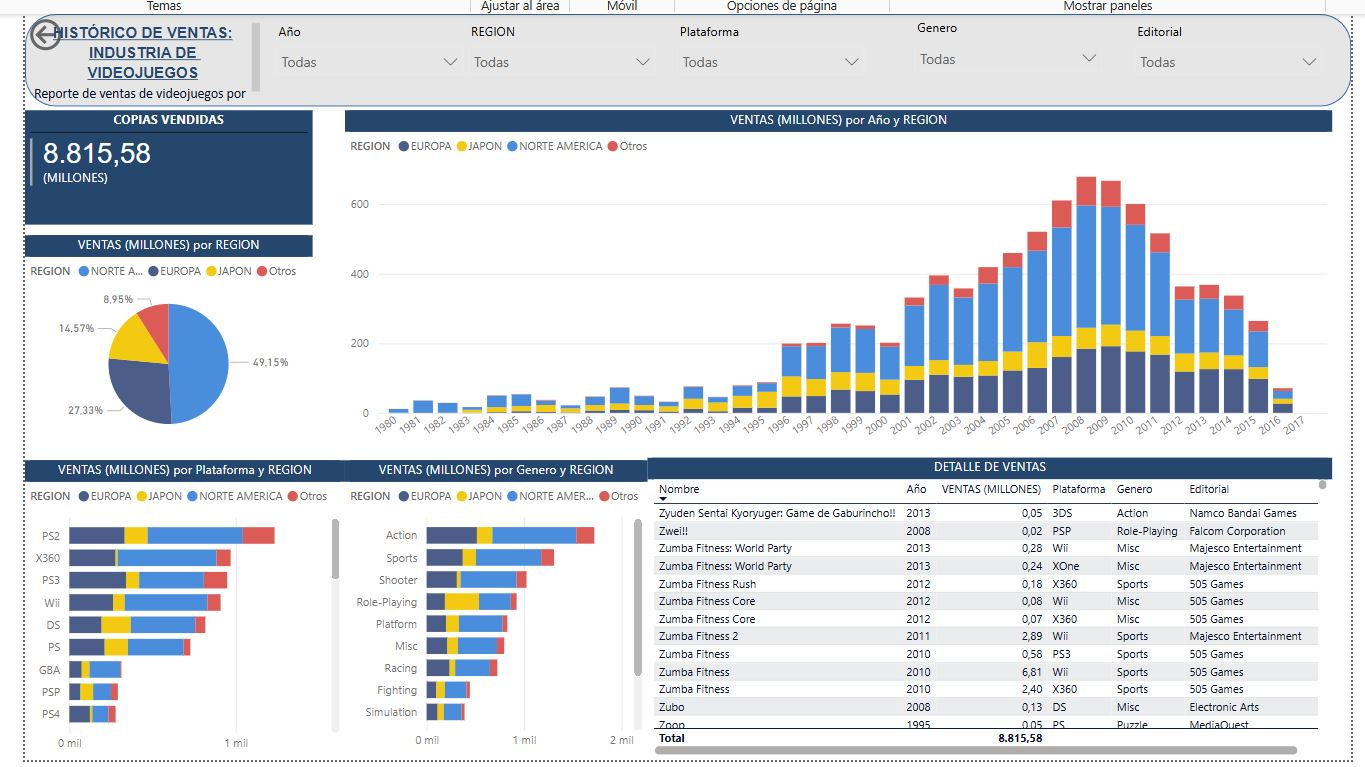

What the dashboard file says about the page in this screenshot:
{"tool":"powerbi","page":{"name":"PROYECTO 1","canvas":[1280,720],"ordinal":0},"visuals":[{"type":"shape","box":[0,0,1280,89.3],"z":0},{"type":"tableEx","title":"DETALLE DE VENTAS","fields":{"Values":["Ventas Videojuegos.Nombre","Ventas Videojuegos.Año","Sum(Ventas Videojuegos.VENTAS (MILLONES))","Ventas Videojuegos.Plataforma","Ventas Videojuegos.Genero","Ventas Videojuegos.Editorial"]},"box":[600.8,428.3,661.1,292],"z":1000},{"type":"actionButton","box":[0,0,100,40],"z":2000},{"type":"columnChart","fields":{"Category":["Ventas Videojuegos.Año"],"Y":["Sum(Ventas Videojuegos.VENTAS (MILLONES))"],"Series":["Ventas Videojuegos.REGION"]},"box":[308.8,92.9,953.1,325.7],"z":3000},{"type":"pieChart","fields":{"Category":["Ventas Videojuegos.REGION"],"Y":["Sum(Ventas Videojuegos.VENTAS (MILLONES))"]},"box":[0,213.5,277.5,205.1],"z":4000},{"type":"multiRowCard","title":"COPIAS VENDIDAS","fields":{"Values":["Sum(Ventas Videojuegos.VENTAS (MILLONES))"]},"box":[0,92.9,277.5,110],"z":5000},{"type":"slicer","fields":{"Values":["Ventas Videojuegos.Año"]},"box":[231.6,3.6,143.6,72.4],"z":6000},{"type":"slicer","fields":{"Values":["Ventas Videojuegos.REGION"]},"box":[375.2,0,201.5,72.4],"z":7000},{"type":"slicer","fields":{"Values":["Ventas Videojuegos.Plataforma"]},"box":[565.8,0,201.5,72.4],"z":8000},{"type":"slicer","fields":{"Values":["Ventas Videojuegos.Genero"]},"box":[767.3,0,201.5,72.4],"z":9000},{"type":"slicer","fields":{"Values":["Ventas Videojuegos.Editorial"]},"box":[957.9,3.6,201.5,72.4],"z":10000},{"type":"barChart","fields":{"Y":["Sum(Ventas Videojuegos.VENTAS (MILLONES))"],"Series":["Ventas Videojuegos.REGION"],"Category":["Ventas Videojuegos.Plataforma"]},"box":[0,430.7,308.8,289.5],"z":11000},{"type":"barChart","fields":{"Y":["Sum(Ventas Videojuegos.VENTAS (MILLONES))"],"Series":["Ventas Videojuegos.REGION"],"Category":["Ventas Videojuegos.Genero"]},"box":[308.8,430.7,292,287.1],"z":12000},{"type":"textbox","box":[3.6,3.6,228,89.3],"z":13000},{"type":"actionButton","box":[1179.9,4.8,100.1,39.8],"z":14000}]}

Visuals, with their boxes on the page's 1280x720 design canvas (x1, y1, x2, y2). These are canvas units, not pixel positions in the 1365x767 screenshot, which may show the page scaled, cropped or inside an application window:
shape: box=[0, 0, 1280, 89]
"DETALLE DE VENTAS" tableEx: box=[601, 428, 1262, 720]
actionButton: box=[0, 0, 100, 40]
columnChart - Ventas Videojuegos.Año x Sum(Ventas Videojuegos.VENTAS (MILLONES)): box=[309, 93, 1262, 419]
pieChart - Ventas Videojuegos.REGION x Sum(Ventas Videojuegos.VENTAS (MILLONES)): box=[0, 214, 278, 419]
"COPIAS VENDIDAS" multiRowCard: box=[0, 93, 278, 203]
slicer - Ventas Videojuegos.Año: box=[232, 4, 375, 76]
slicer - Ventas Videojuegos.REGION: box=[375, 0, 577, 72]
slicer - Ventas Videojuegos.Plataforma: box=[566, 0, 767, 72]
slicer - Ventas Videojuegos.Genero: box=[767, 0, 969, 72]
slicer - Ventas Videojuegos.Editorial: box=[958, 4, 1159, 76]
barChart - Sum(Ventas Videojuegos.VENTAS (MILLONES)) x Ventas Videojuegos.REGION: box=[0, 431, 309, 720]
barChart - Sum(Ventas Videojuegos.VENTAS (MILLONES)) x Ventas Videojuegos.REGION: box=[309, 431, 601, 718]
textbox: box=[4, 4, 232, 93]
actionButton: box=[1180, 5, 1280, 45]
